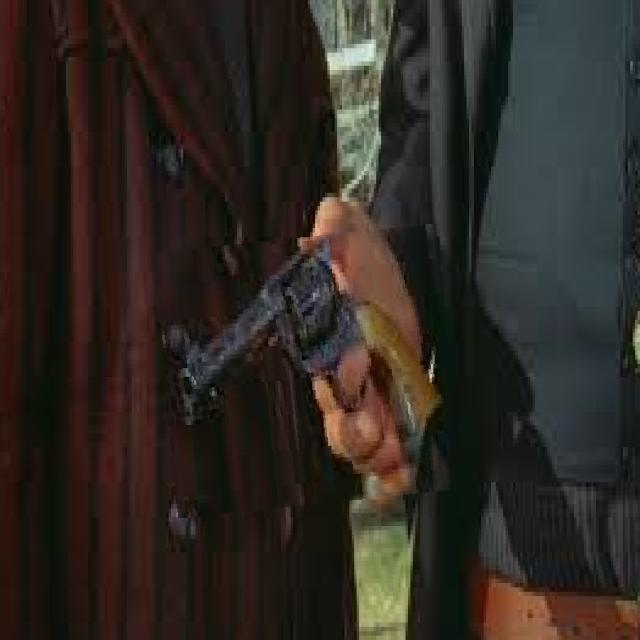Gun_Holder: (132, 204, 442, 499)
